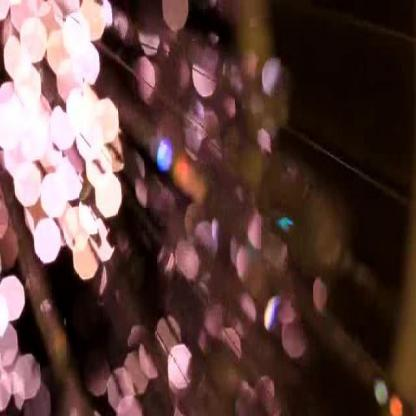other: (1, 5, 198, 398)
